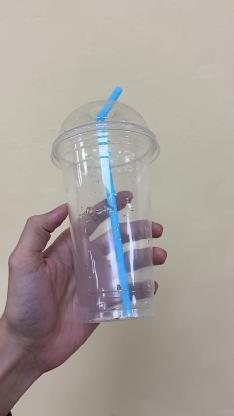Plastic Cup: (50, 86, 160, 326)
